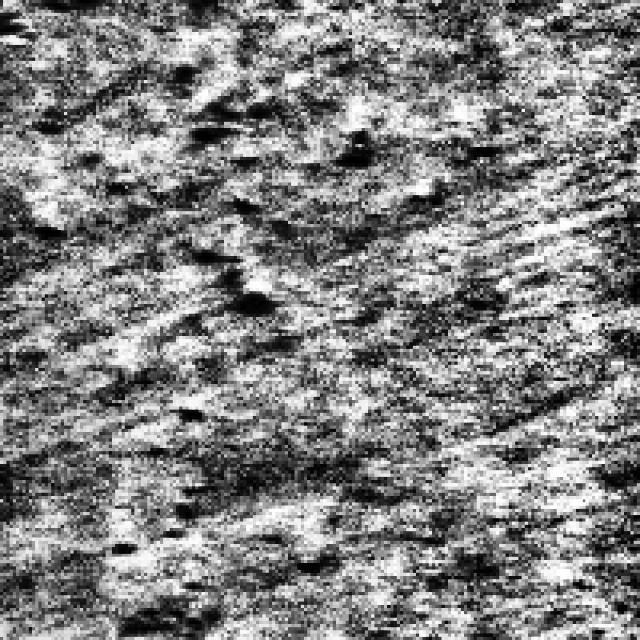Crazing: (164, 77, 406, 310)
